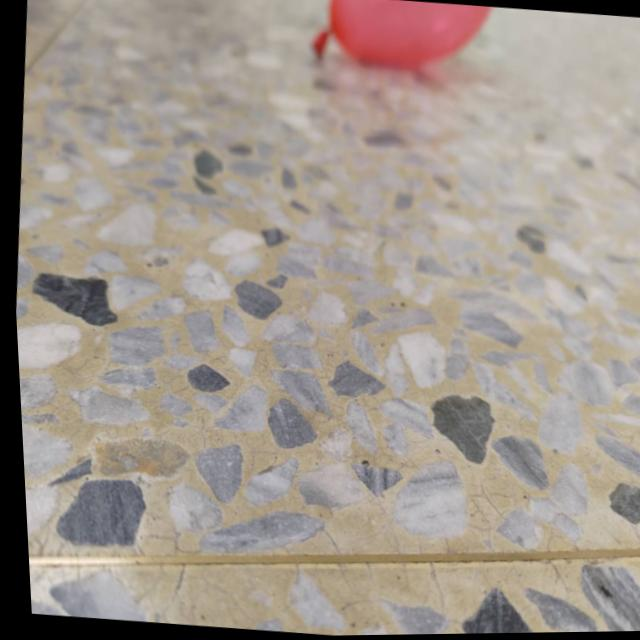red: (305, 0, 499, 79)
